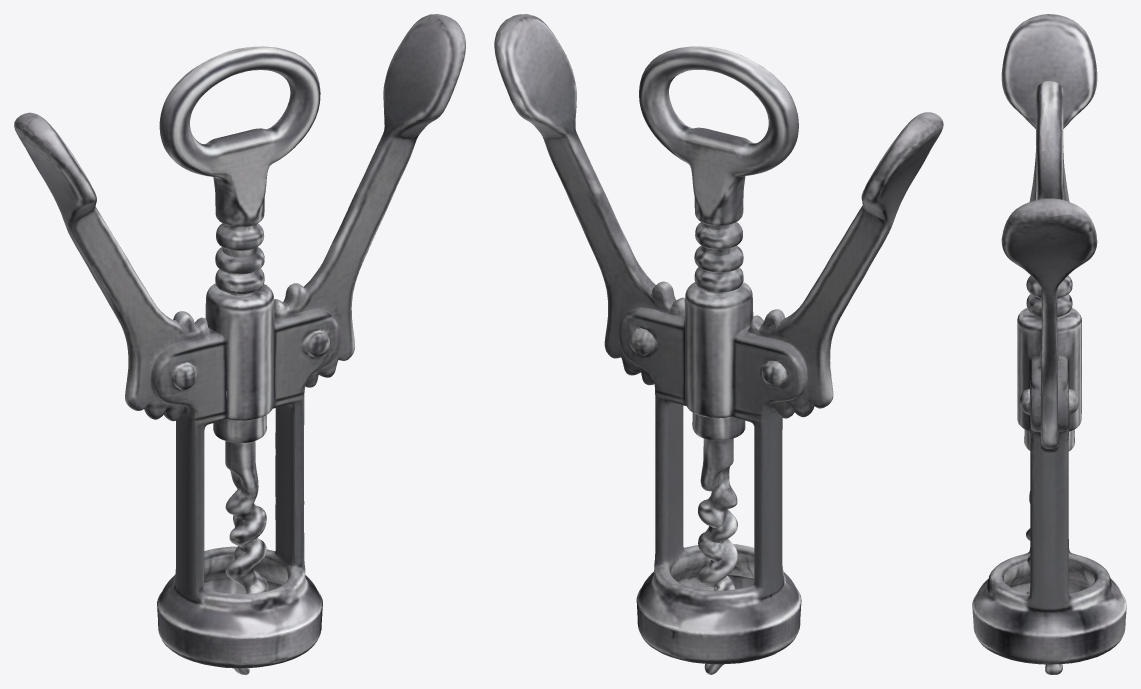
File: parts.glb
3 views of the same model, side by side, from view 1: azimuth 30°, elevation 25°; view 2: azimuth 150°, elevation 25°; view 3: azimuth 270°, elevation 25° (orthographic). The views are drawn at different scales.
Size of the model in its own units: 0.1674 by 0.23 by 0.0557.
4 materials, 4 textured.
